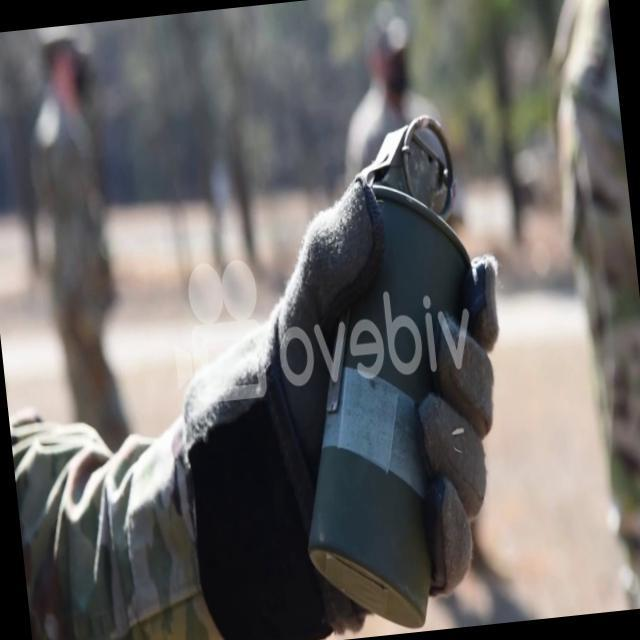grenade: (266, 112, 512, 638)
